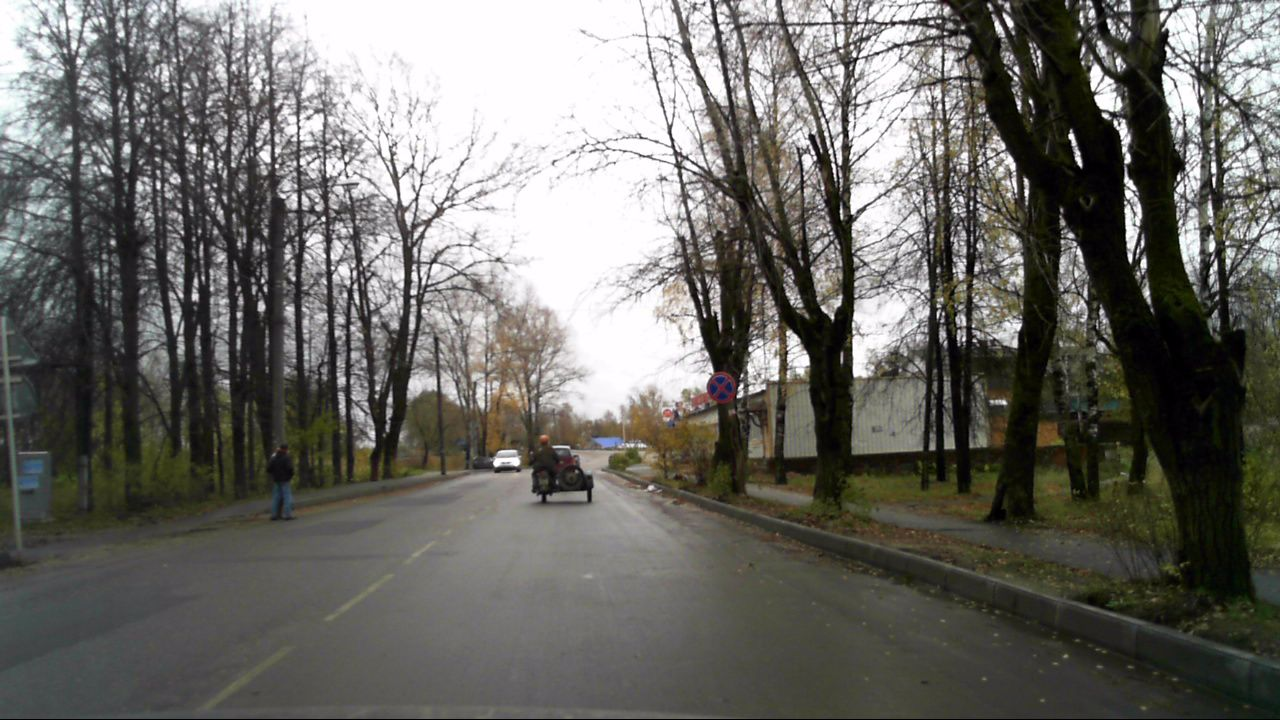No Parking: (705, 371, 738, 404)
